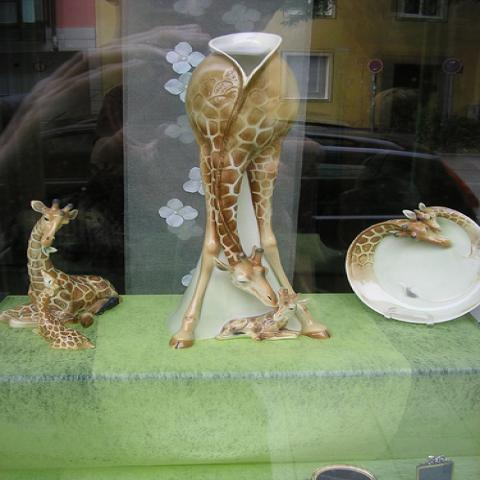car: (293, 119, 479, 256)
